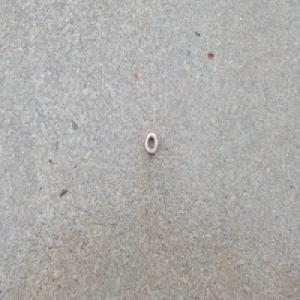Nut: (143, 131, 158, 156)
